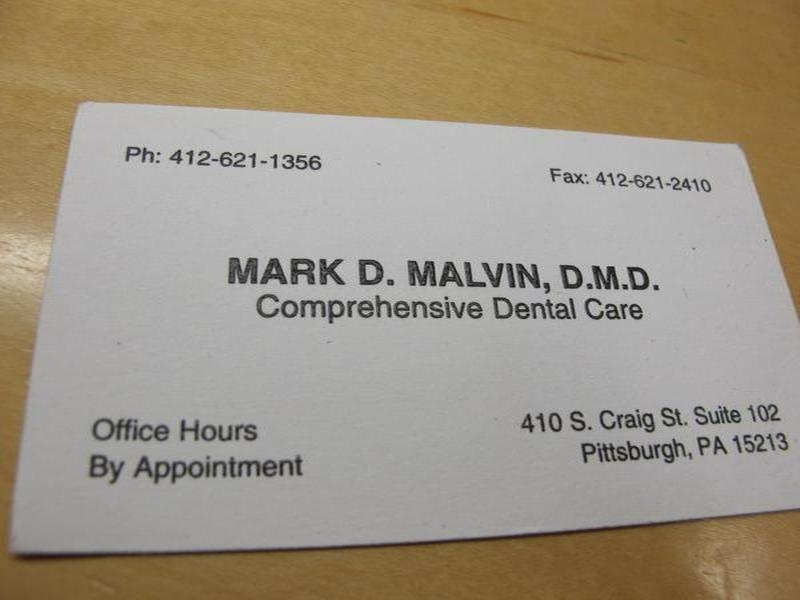card: (16, 97, 800, 555)
